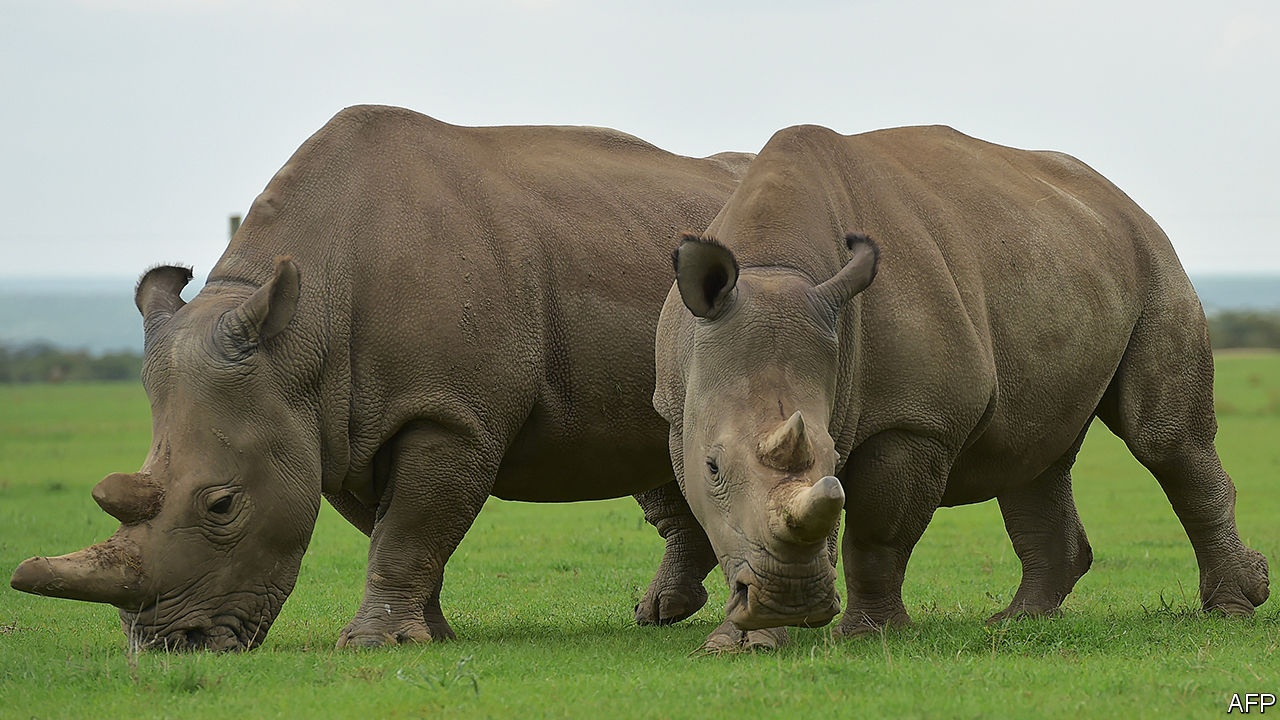rhino: (13, 100, 782, 634), (646, 120, 1272, 649)
